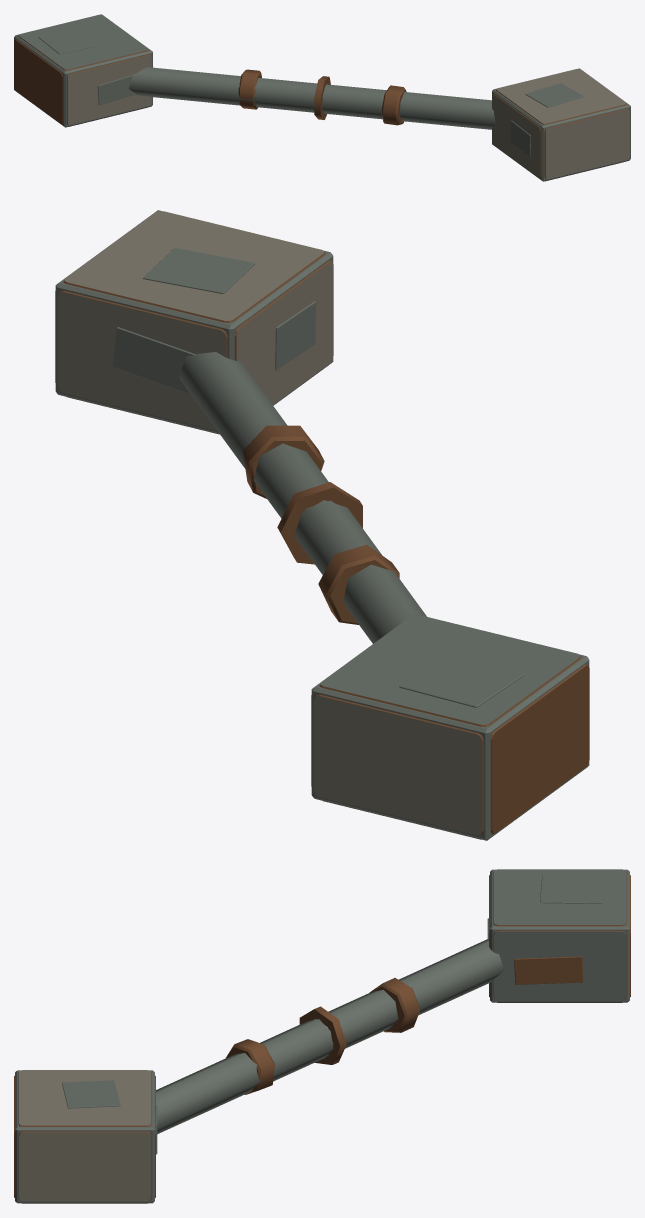
File: R4C_ROD_DIAG_2D_LONG.fbx
The picture shows the model from 3 angles, top to bottom: view 1: azimuth 30°, elevation 25°; view 2: azimuth 150°, elevation 25°; view 3: azimuth 270°, elevation 25°; orthographic projection. The views are drawn at different scales.
Visible parts, largest first — view 1: R4C_ROD_DIAG_2D_LONG; view 2: R4C_ROD_DIAG_2D_LONG; view 3: R4C_ROD_DIAG_2D_LONG.
Part boxes in pixels (box(x1,y1,x2,y2)): R4C_ROD_DIAG_2D_LONG: box(14, 14, 630, 181); R4C_ROD_DIAG_2D_LONG: box(55, 210, 589, 840); R4C_ROD_DIAG_2D_LONG: box(14, 869, 630, 1203).
Size of the model in its own units: 1.62 by 0.232 by 1.62.
